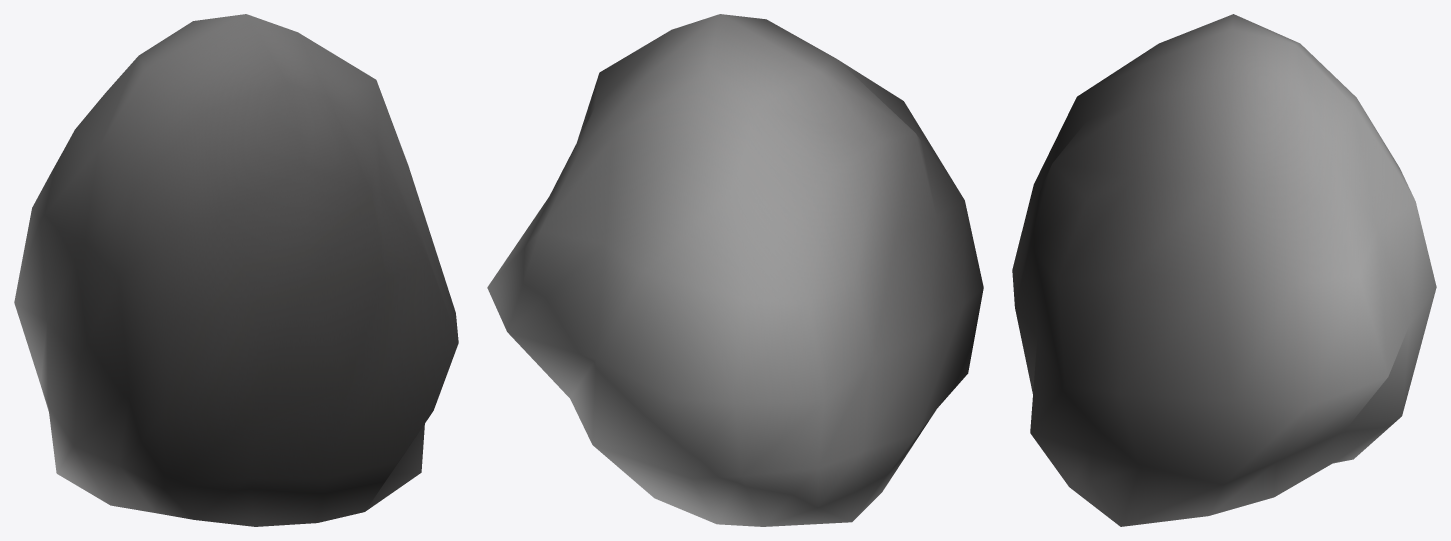
Rendered from BigRock.FBX.
3 views of the same model, side by side, from view 1: azimuth 30°, elevation 25°; view 2: azimuth 150°, elevation 25°; view 3: azimuth 270°, elevation 25° (orthographic). The views are drawn at different scales.
Visible parts, largest first — view 1: Box003; view 2: Box003; view 3: Box003.
Part boxes in pixels (x1,y1,x2,y2): Box003: (14, 14, 458, 526); Box003: (487, 14, 983, 526); Box003: (1012, 14, 1436, 526).
Bounding box in the file's own units: 48.58 × 54.88 × 47.97.
Materials: 1 (1 with a texture image).
